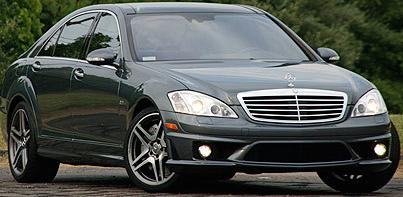front_view: (167, 74, 390, 181)
headlight: (161, 88, 240, 120)
side_glass: (28, 13, 119, 73)
